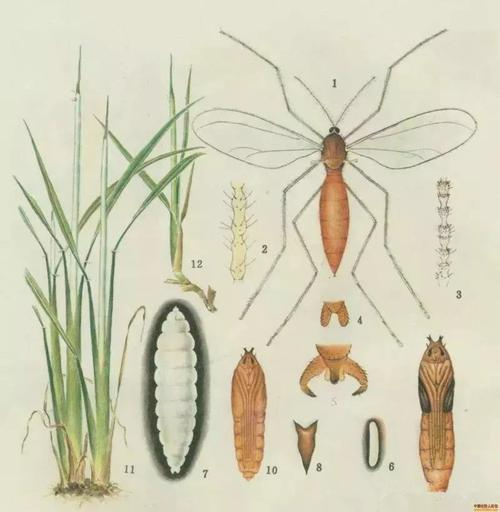Cecidomyiidae: (201, 23, 478, 348)
